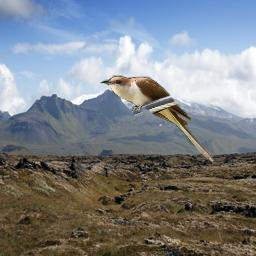Cuckoo: (100, 75, 216, 164)
